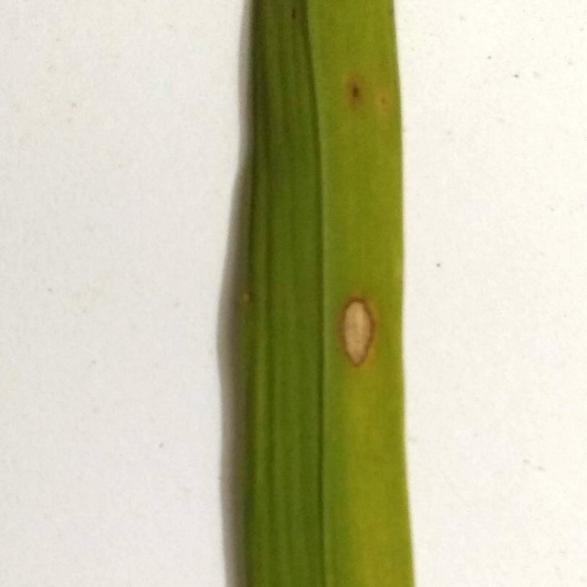Leaf_smut: (328, 281, 382, 369)
